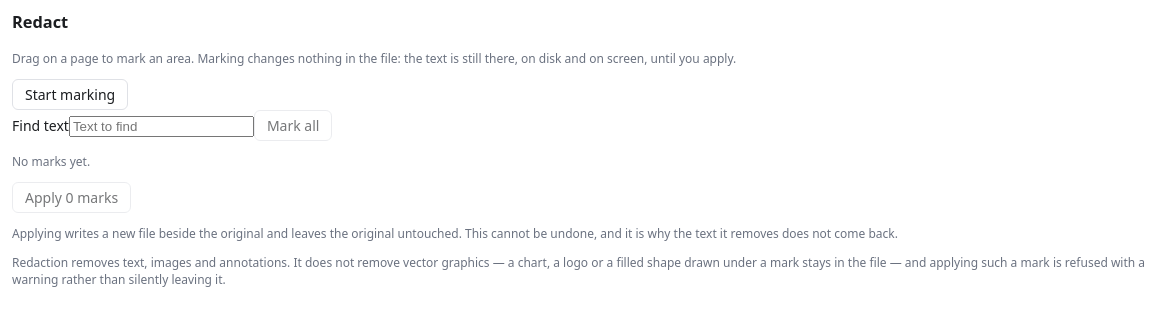
it: RedactPanel › reports an empty search as an answer rather than a failure
Step 1. Type "absent-word" into the field with placeholder "Text to find" → (161, 126), box [69,116,254,137]
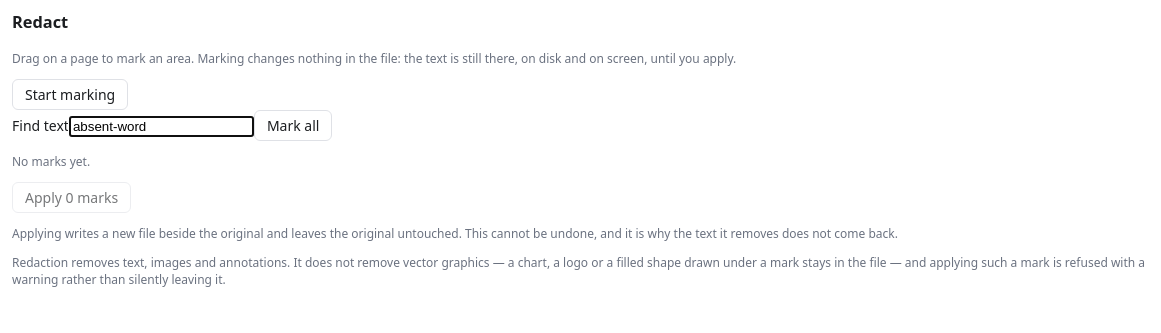
Step 2. Click the button "Mark all" → (293, 125), box [254,110,332,141]
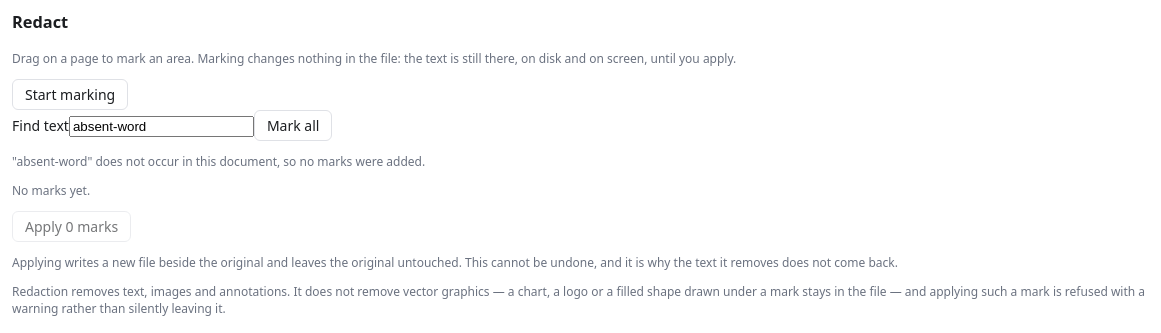
Expected: the text "does not occur in this document" is shown, [12,153,425,170]
